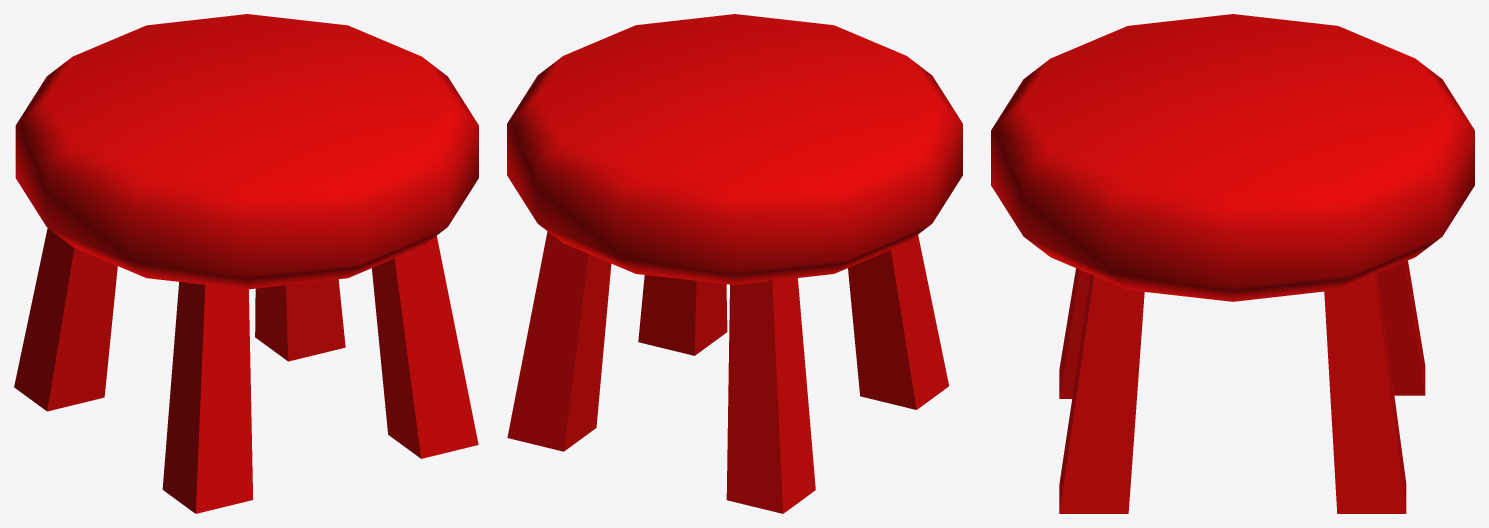
File: Sgabello.fbx
3 renders of one model, left to right at view 1: azimuth 30°, elevation 25°; view 2: azimuth 150°, elevation 25°; view 3: azimuth 270°, elevation 25°, orthographic. The views are drawn at different scales.
Visible parts, largest first — view 1: Tavola_Sgabello; view 2: Tavola_Sgabello; view 3: Tavola_Sgabello.
Part boxes in pixels (x1,y1,x2,y2): Tavola_Sgabello: [14, 14, 478, 513]; Tavola_Sgabello: [507, 14, 962, 513]; Tavola_Sgabello: [991, 14, 1474, 513].
Size of the model in its own units: 43.08 by 32.94 by 43.08.
